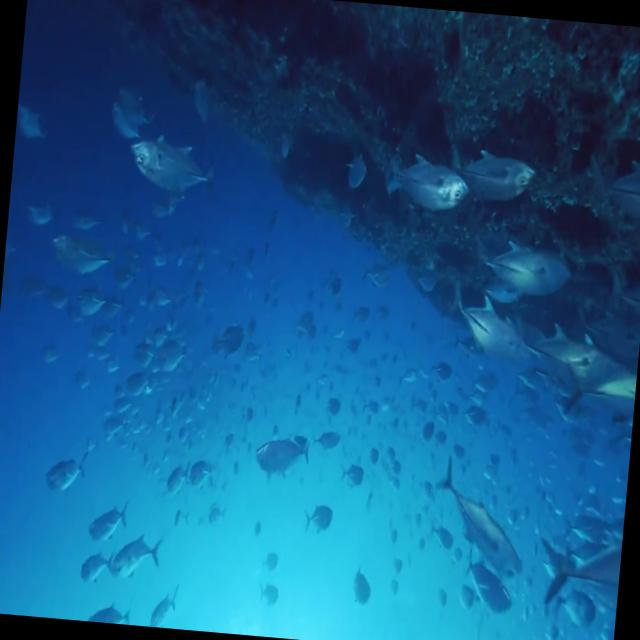fish: (417, 450, 531, 582), (124, 120, 225, 216), (464, 230, 582, 310), (533, 521, 623, 609), (436, 287, 528, 367), (382, 150, 473, 216), (458, 138, 542, 203), (462, 539, 518, 632), (520, 315, 598, 379), (565, 364, 637, 426), (254, 430, 324, 488), (47, 228, 119, 284), (110, 523, 166, 584), (41, 441, 94, 496), (210, 313, 256, 367), (549, 584, 596, 635), (106, 100, 149, 154), (71, 544, 115, 594), (89, 495, 132, 544), (184, 83, 224, 134), (146, 582, 188, 630), (342, 142, 374, 203), (301, 494, 340, 542), (348, 554, 378, 610), (14, 105, 53, 148), (76, 280, 108, 328), (184, 451, 218, 496), (85, 598, 137, 625), (340, 456, 374, 496), (286, 302, 318, 344), (25, 194, 56, 234), (170, 499, 196, 539), (256, 576, 286, 610), (258, 542, 286, 576), (314, 426, 346, 454), (397, 362, 421, 398), (167, 457, 190, 492), (428, 363, 457, 382)
